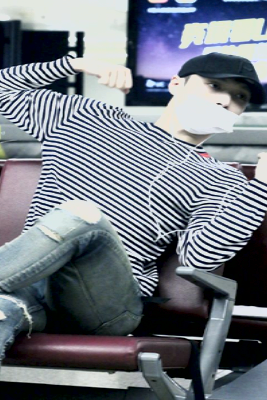mask_weared_incorrect: (178, 77, 249, 133)
